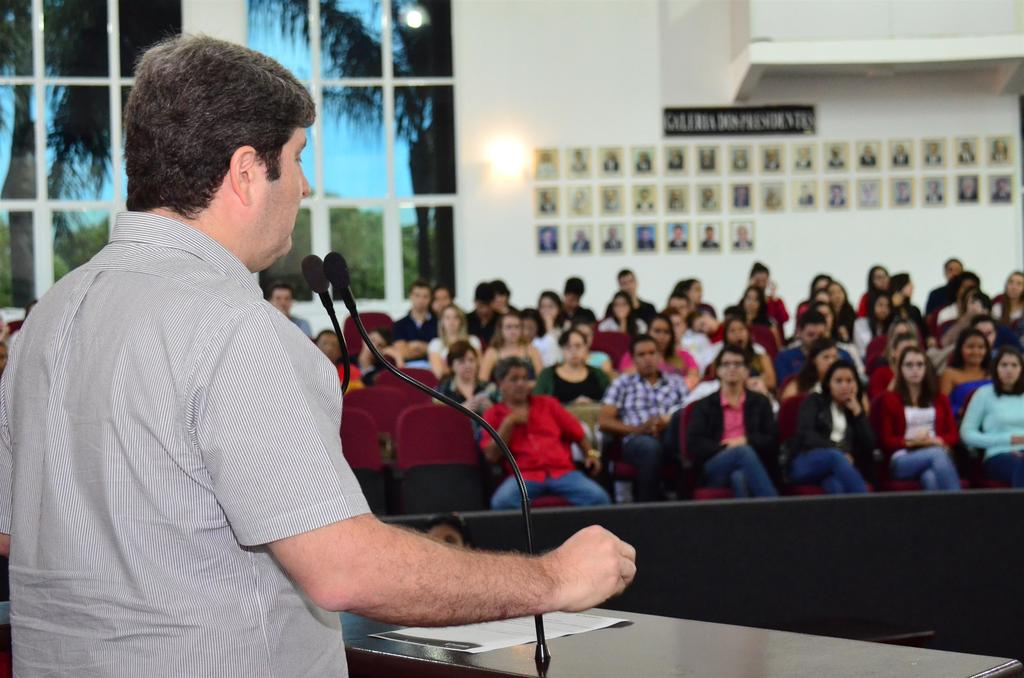Human_hand: (548, 537, 651, 608), (967, 299, 986, 320), (585, 455, 602, 476), (383, 348, 401, 367), (745, 376, 766, 392), (475, 396, 495, 412), (648, 416, 668, 432), (845, 396, 862, 414), (513, 404, 527, 425), (637, 419, 656, 434), (463, 398, 476, 414), (933, 432, 946, 448), (730, 434, 746, 445), (1009, 434, 1023, 446), (920, 433, 936, 443)
